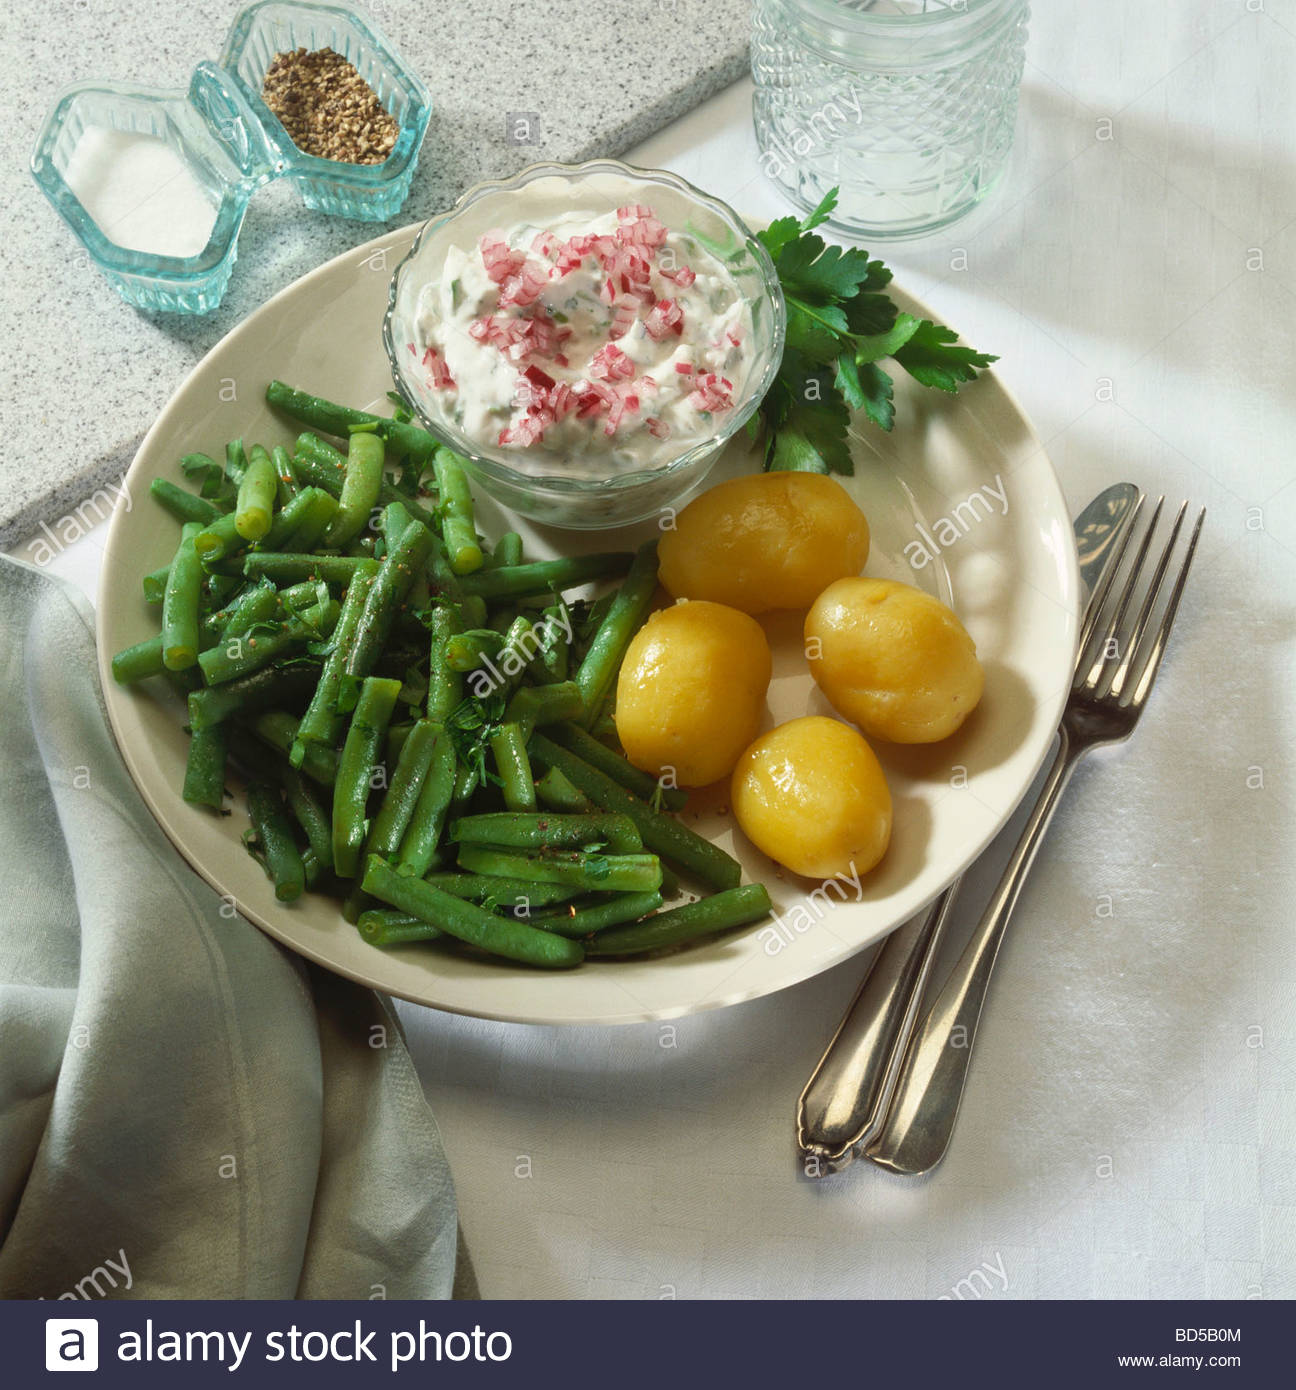boiled peas: (149, 453, 635, 953)
boiled potatoes: (650, 475, 873, 594), (812, 569, 960, 735), (608, 612, 769, 759), (742, 729, 895, 869)
